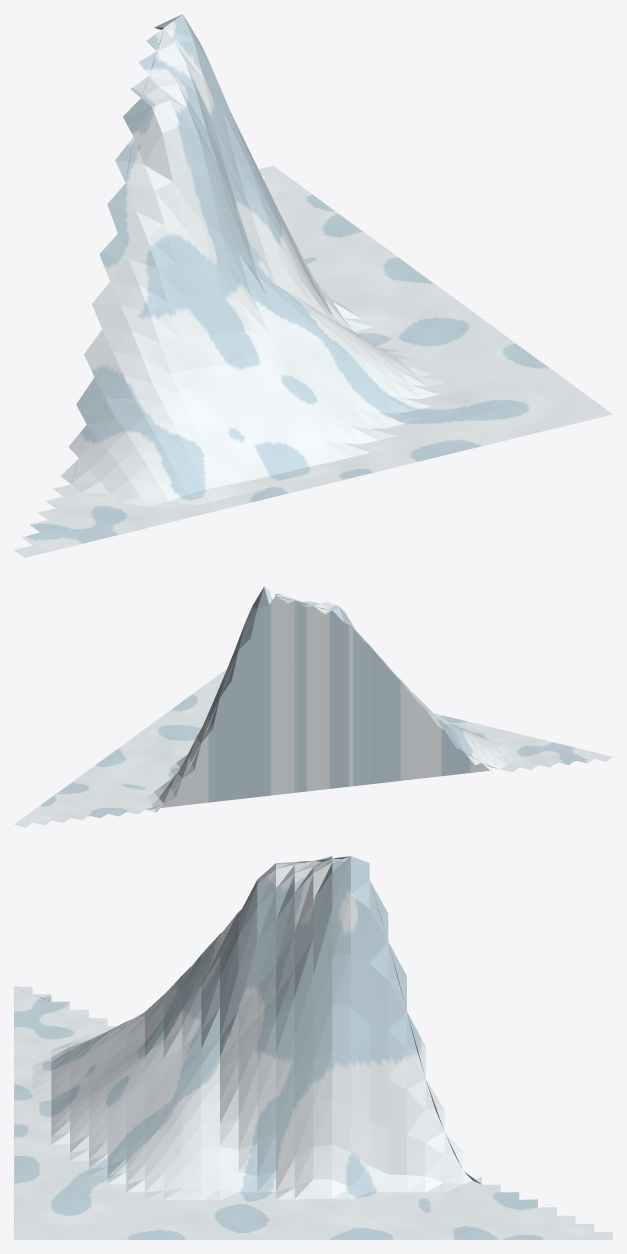
The model's file is Snow_Mountains_11_NE.obj.
3 renders of one model, top to bottom at view 1: azimuth 30°, elevation 25°; view 2: azimuth 150°, elevation 25°; view 3: azimuth 270°, elevation 25°, orthographic. The views are drawn at different scales.
Bounding box in the file's own units: 10 × 5.18 × 10.
Materials: 1 (1 with a texture image).
